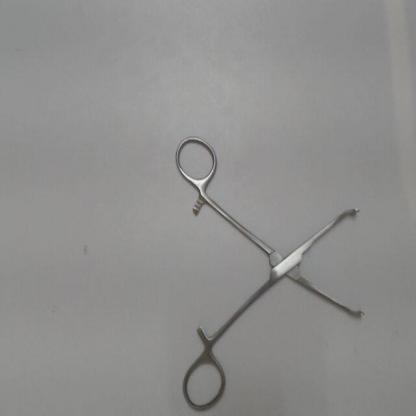Allis Tissue Forceps: (169, 129, 372, 414)
